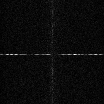wifi: (1, 52, 104, 55)
